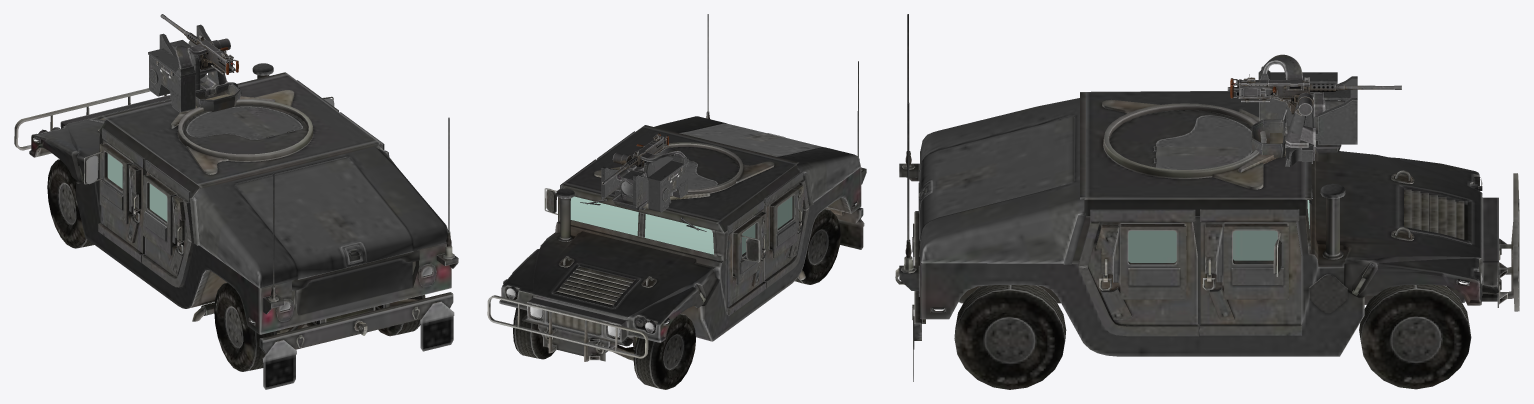
Rendered from humvee_grey.glb.
3 renders of one model, left to right at view 1: azimuth 30°, elevation 25°; view 2: azimuth 150°, elevation 25°; view 3: azimuth 270°, elevation 25°, orthographic. The views are drawn at different scales.
Parts seen in each view (by area): view 1: humvee_grey_body; view 2: humvee_grey_body; view 3: humvee_grey_body.
Boxes of the visible parts, bbox=[...] form: humvee_grey_body: bbox=[14, 14, 458, 389]; humvee_grey_body: bbox=[487, 14, 866, 389]; humvee_grey_body: bbox=[895, 14, 1519, 389].
Size of the model in its own units: 2.73 by 2.51 by 4.9.
36 materials, 35 textured.
